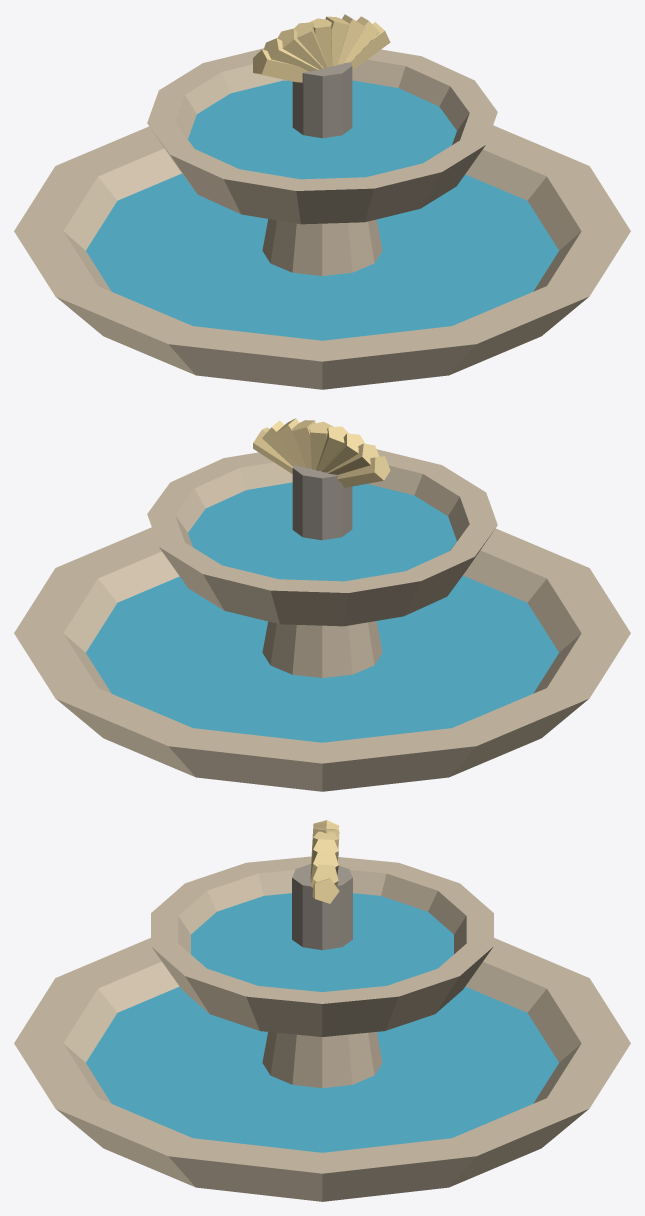
Rendered from aquarium_forecourt_fountain.fbx.
The picture shows the model from 3 angles, top to bottom: view 1: azimuth 30°, elevation 25°; view 2: azimuth 150°, elevation 25°; view 3: azimuth 270°, elevation 25°; orthographic projection.
Visible parts, largest first — view 1: aquarium_forecourt_fountain; view 2: aquarium_forecourt_fountain; view 3: aquarium_forecourt_fountain.
Boxes of the visible parts, x1,y1,x2,y2 form: aquarium_forecourt_fountain: [14, 14, 630, 389]; aquarium_forecourt_fountain: [14, 418, 630, 791]; aquarium_forecourt_fountain: [14, 820, 630, 1201].
Size of the model in its own units: 6 by 2.8 by 6.
